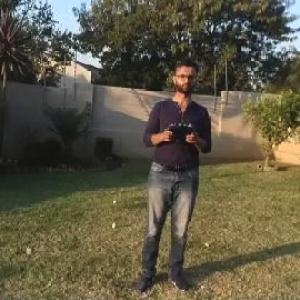follow: (130, 51, 216, 299)
